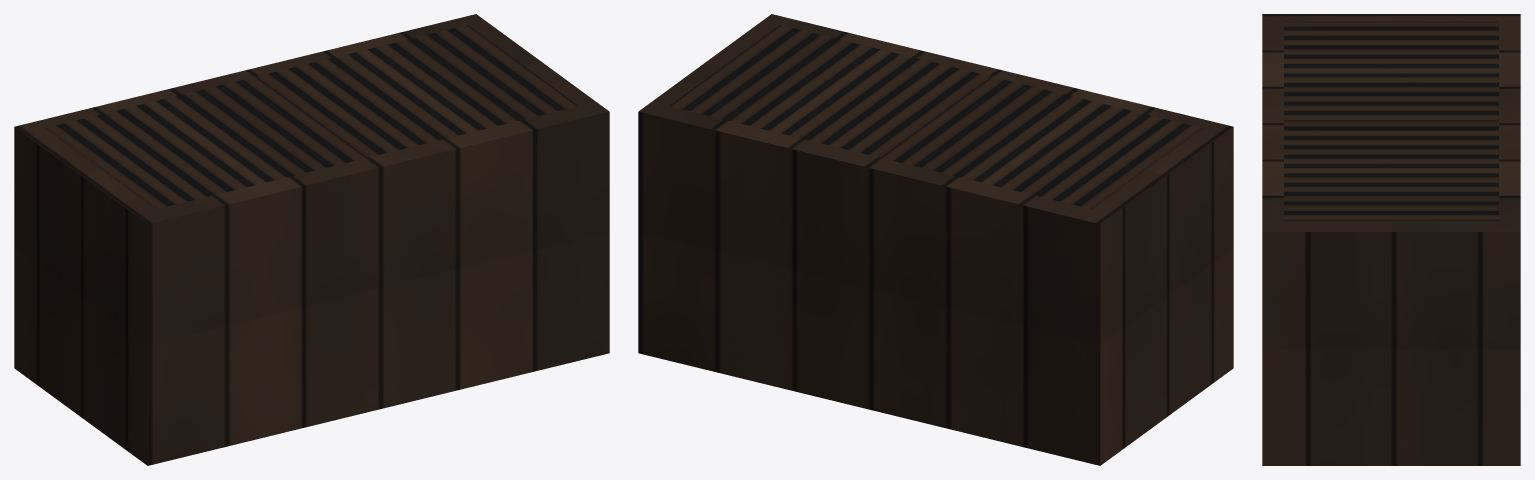
Rendered from offering_box.glb.
The picture shows the model from 3 angles, left to right: view 1: azimuth 30°, elevation 25°; view 2: azimuth 150°, elevation 25°; view 3: azimuth 270°, elevation 25°; orthographic projection. The views are drawn at different scales.
Visible parts, largest first — view 1: offering_box; view 2: offering_box; view 3: offering_box.
Part boxes in pixels (box(x1,y1,x2,y2)): offering_box: box(14, 14, 609, 465); offering_box: box(638, 14, 1233, 465); offering_box: box(1262, 14, 1520, 465).
Size of the model in its own units: 1.2 by 0.605 by 0.6.
Materials: 2 (2 with a texture image).
